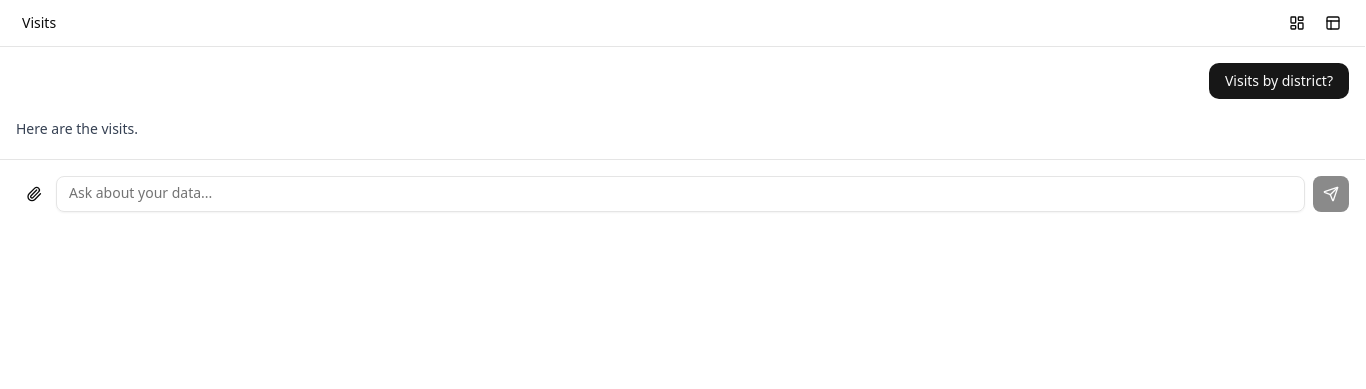
it: a thread whose turn runs where this tab can't follow it (#856) › shows this tab's own turn running until its stream ends
This screenshot has width=1366, height=389.
Check: the text "Here are the visits." is shown, box [16,119,138,139]
In the text box: (680, 194) [56,176,1305,212], type "and by month?"
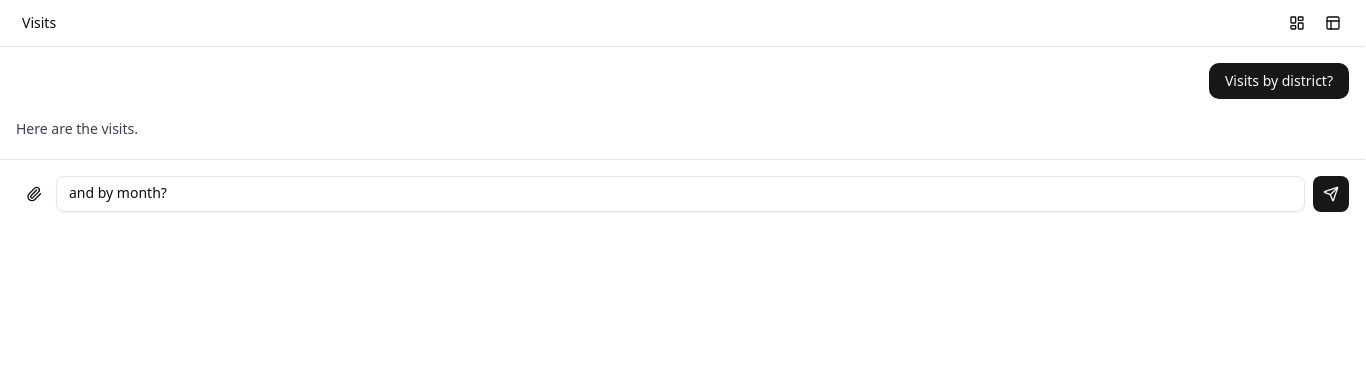
Click the button named "Send message": (1331, 194) [1313,176,1349,212]
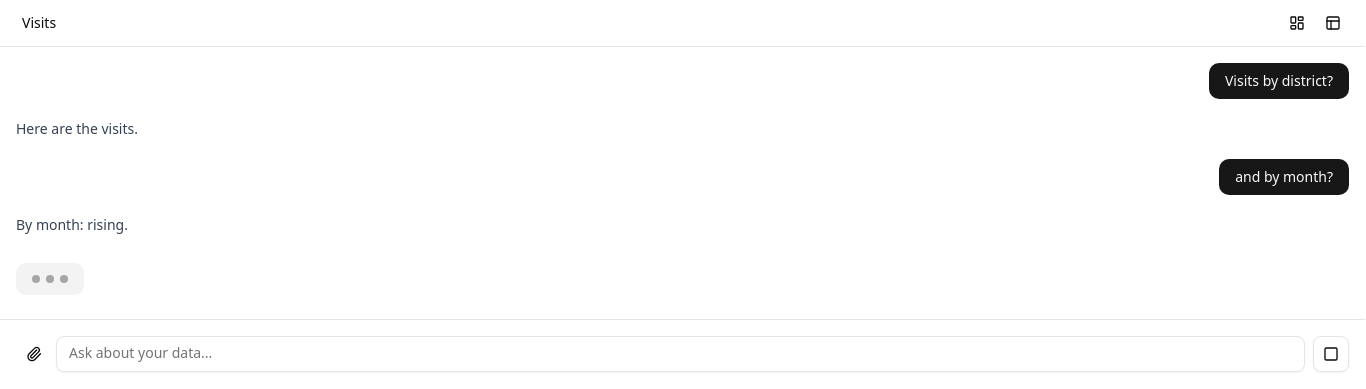
Check: the text "By month: rising." is shown, box [16,215,128,235]
